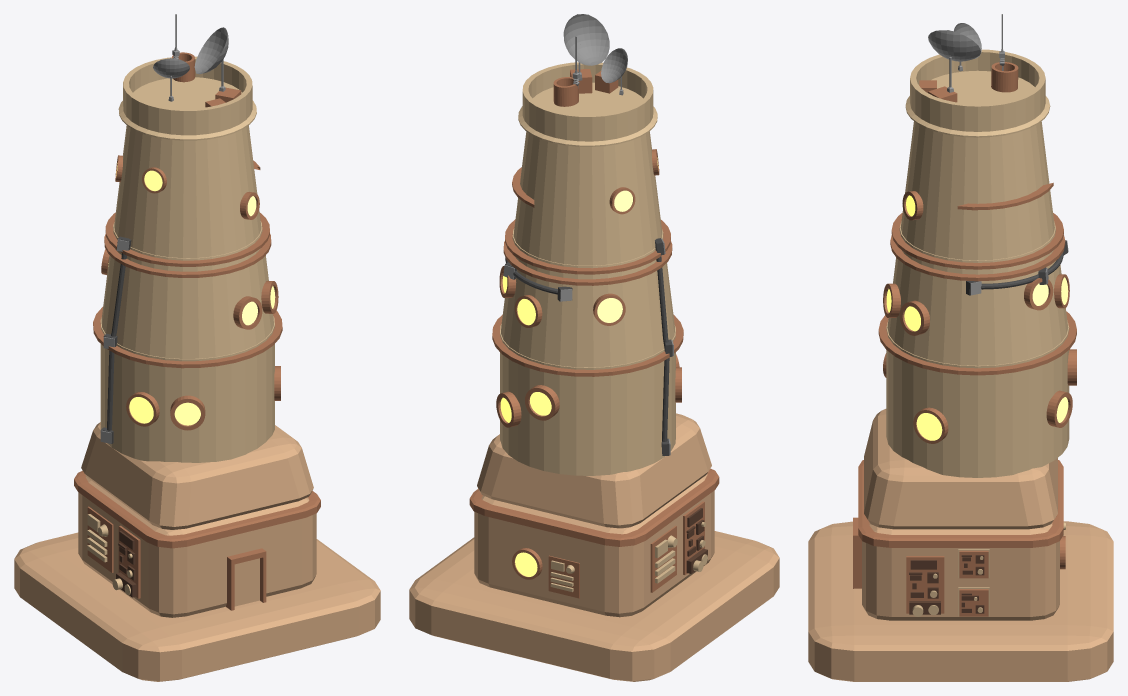
File: nomad_building_34.fbx
3 renders of one model, left to right at view 1: azimuth 30°, elevation 25°; view 2: azimuth 150°, elevation 25°; view 3: azimuth 270°, elevation 25°, orthographic. The views are drawn at different scales.
Parts seen in each view (by area): view 1: B34_M_Foundation_square, B34_T_Drum2, B34_T_Drum0, B34_M_R00_square_roof_defualt, B34_T_Drum1, B34_M_Blk00_base, B34_T_Crown_RoofDeck_Ringwall, B34_M_B00_Band_square_diameter_default, B34_T_Ring00_TowerTrim_BandThin, B34_T_Ring10_TowerTrim_BandThin, B34_T_Ring11_TowerTrim_BandThin, B34_M_Door_Door_Leaf (+7 smaller); view 2: B34_M_Foundation_square, B34_T_Drum0, B34_T_Drum2, B34_M_Blk00_base, B34_T_Drum1, B34_M_R00_square_roof_defualt, B34_T_Crown_RoofDeck_Ringwall, B34_M_B00_Band_square_diameter_default, B34_T_Ring00_TowerTrim_BandThin, B34_T_Dish0_AntennaDish_Reflector, B34_T_Ring10_TowerTrim_BandThin, B34_T_Ring11_TowerTrim_BandThin (+8 smaller); view 3: B34_M_Foundation_square, B34_T_Drum0, B34_T_Drum2, B34_T_Drum1, B34_M_R00_square_roof_defualt, B34_M_Blk00_base, B34_T_Crown_RoofDeck_Ringwall, B34_M_B00_Band_square_diameter_default, B34_T_Ring00_TowerTrim_BandThin, B34_T_Ring10_TowerTrim_BandThin, B34_T_Ring11_TowerTrim_BandThin, B34_M_Panel1_MeterBox_Face002 (+13 smaller).
Part boxes in pixels (bbox=[...]): B34_M_Foundation_square: bbox=[14, 532, 380, 681]; B34_T_Drum2: bbox=[114, 125, 261, 258]; B34_T_Drum0: bbox=[100, 316, 274, 462]; B34_M_R00_square_roof_defualt: bbox=[81, 422, 313, 529]; B34_T_Drum1: bbox=[101, 221, 273, 358]; B34_M_Blk00_base: bbox=[78, 476, 316, 617]; B34_T_Crown_RoofDeck_Ringwall: bbox=[118, 56, 256, 140]; B34_M_B00_Band_square_diameter_default: bbox=[74, 470, 320, 548]; B34_T_Ring00_TowerTrim_BandThin: bbox=[93, 306, 282, 368]; B34_T_Ring10_TowerTrim_BandThin: bbox=[105, 212, 269, 266]; B34_T_Ring11_TowerTrim_BandThin: bbox=[104, 233, 271, 277]; B34_M_Door_Door_Leaf: bbox=[234, 558, 259, 606]; B34_M_Foundation_square: bbox=[409, 531, 779, 681]; B34_T_Drum0: bbox=[500, 324, 675, 475]; B34_T_Drum2: bbox=[513, 131, 662, 265]; B34_M_Blk00_base: bbox=[474, 474, 714, 617]; B34_T_Drum1: bbox=[501, 228, 674, 367]; B34_M_R00_square_roof_defualt: bbox=[477, 413, 711, 528]; B34_T_Crown_RoofDeck_Ringwall: bbox=[518, 62, 657, 146]; B34_M_B00_Band_square_diameter_default: bbox=[469, 468, 719, 546]; B34_T_Ring00_TowerTrim_BandThin: bbox=[492, 314, 683, 376]; B34_T_Dish0_AntennaDish_Reflector: bbox=[563, 14, 609, 65]; B34_T_Ring10_TowerTrim_BandThin: bbox=[505, 219, 670, 274]; B34_T_Ring11_TowerTrim_BandThin: bbox=[503, 241, 672, 285]; B34_M_Foundation_square: bbox=[808, 521, 1113, 681]; B34_T_Drum0: bbox=[886, 320, 1069, 477]; B34_T_Drum2: bbox=[900, 121, 1054, 260]; B34_T_Drum1: bbox=[887, 221, 1068, 365]; B34_M_R00_square_roof_defualt: bbox=[864, 409, 1057, 529]; B34_M_Blk00_base: bbox=[862, 523, 1059, 620]; B34_T_Crown_RoofDeck_Ringwall: bbox=[905, 49, 1050, 137]; B34_M_B00_Band_square_diameter_default: bbox=[858, 460, 1063, 547]; B34_T_Ring00_TowerTrim_BandThin: bbox=[878, 311, 1076, 375]; B34_T_Ring10_TowerTrim_BandThin: bbox=[891, 213, 1063, 269]; B34_T_Ring11_TowerTrim_BandThin: bbox=[890, 234, 1065, 281]; B34_M_Panel1_MeterBox_Face002: bbox=[906, 556, 944, 613].
Bounding box in the file's own units: 271 × 596 × 271.
